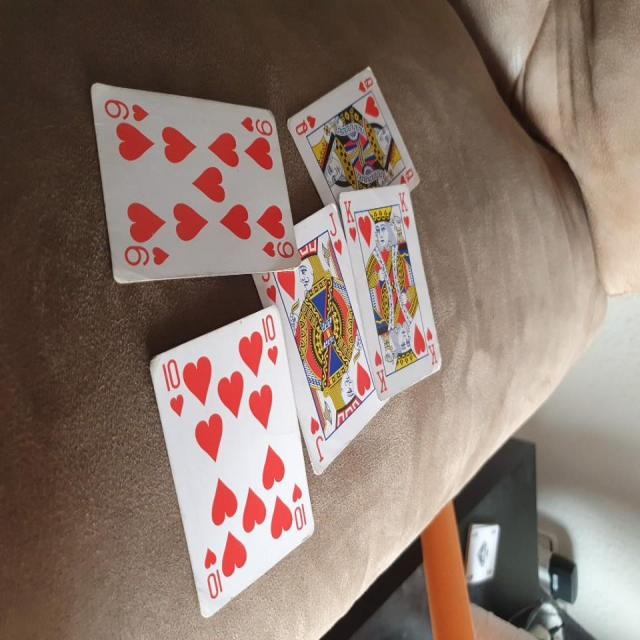10 Hearts: (144, 298, 320, 621)
9 Hearts: (80, 65, 305, 286)
J Hearts: (253, 203, 380, 481)
K Hearts: (339, 183, 447, 399)
Q Hearts: (291, 51, 422, 234)
